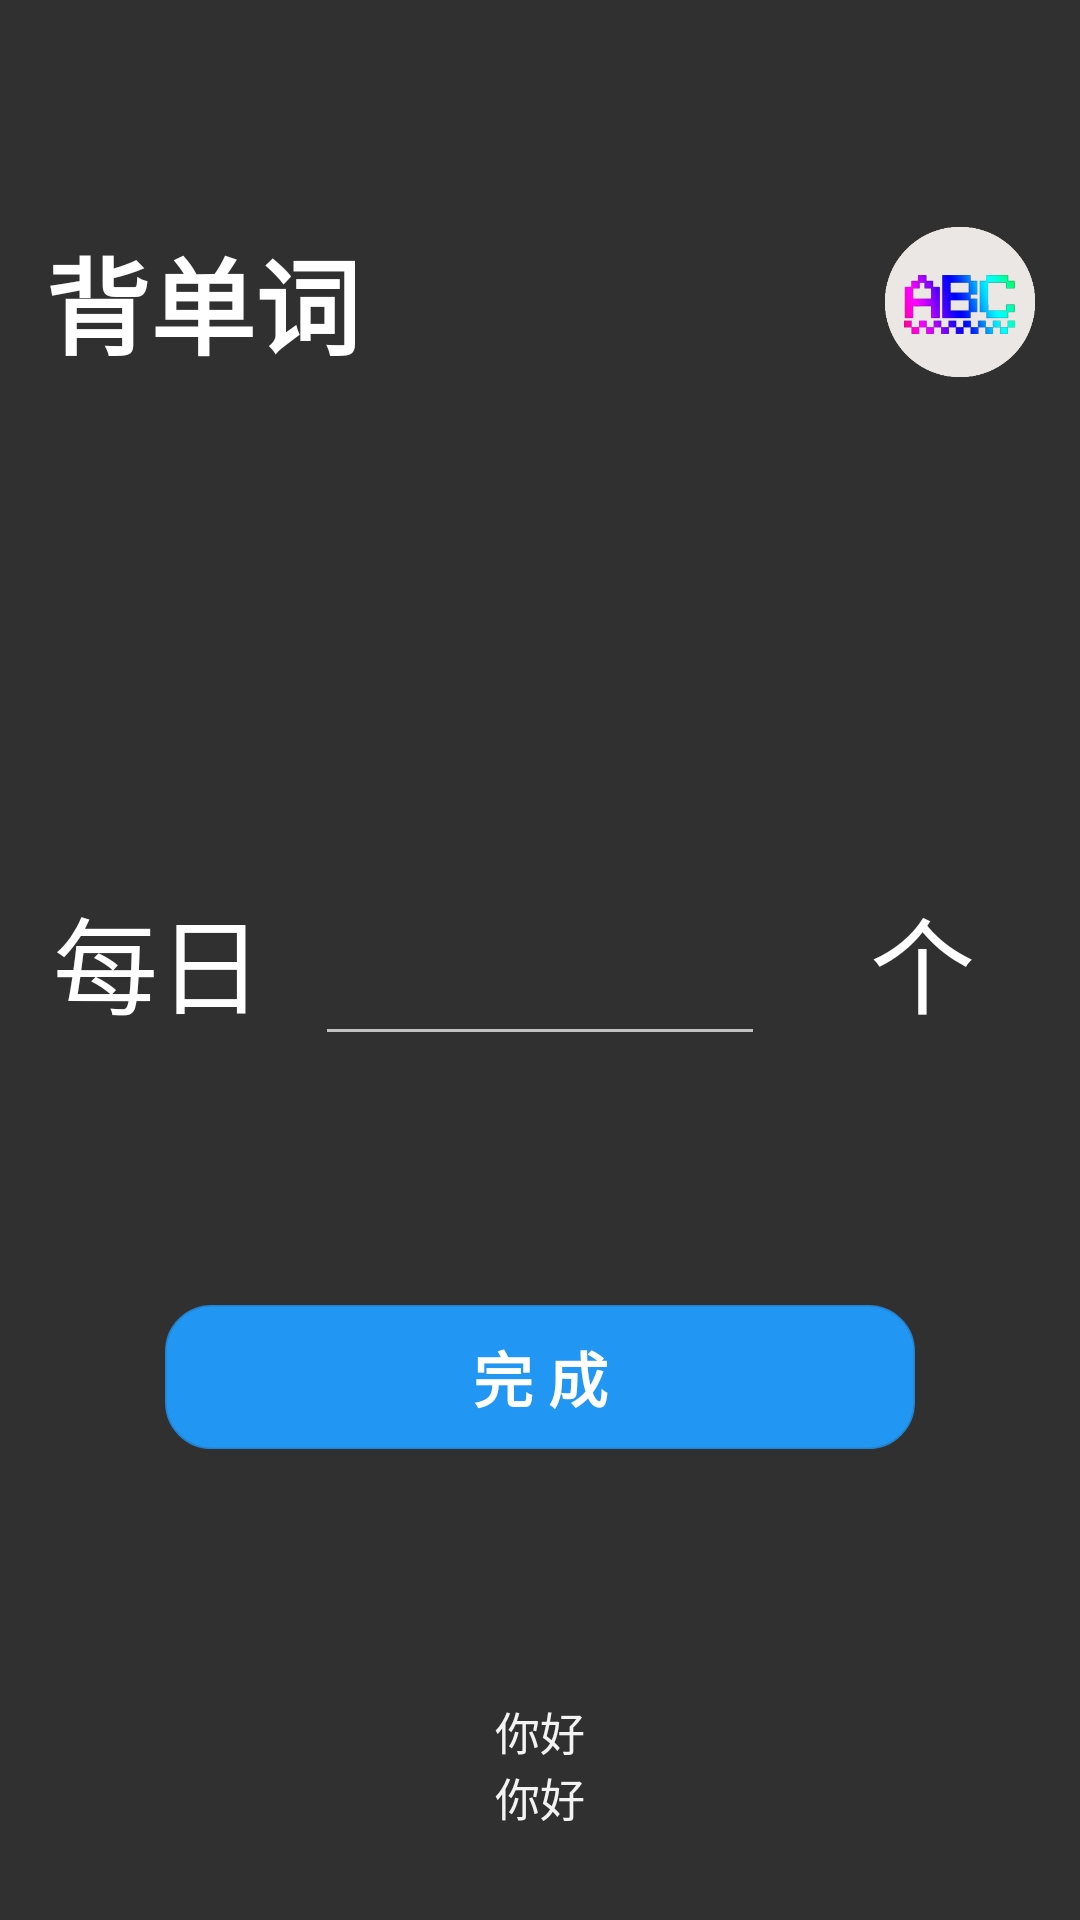

Named icons in this screenshot (1080*1920) and their bounding boxes, (x1, y1, x2, y2):
word: (885, 227, 1035, 377)
